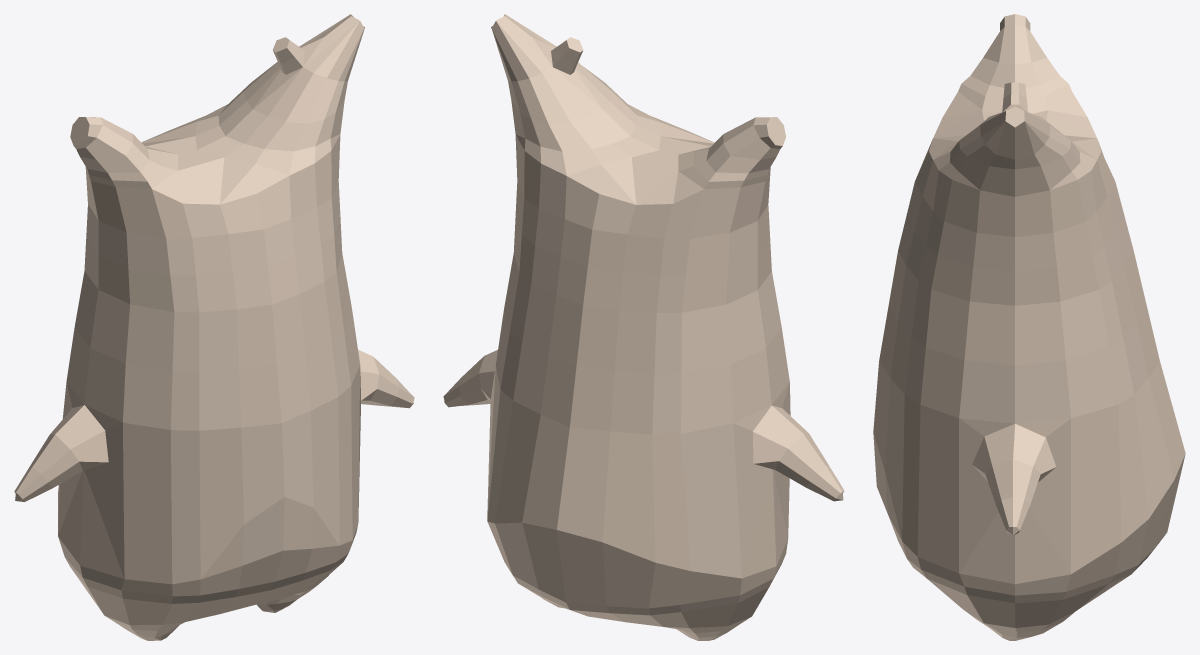
File: frame_0013.obj
3 views of the same model, side by side, from view 1: azimuth 30°, elevation 25°; view 2: azimuth 150°, elevation 25°; view 3: azimuth 270°, elevation 25° (orthographic).
Parts seen in each view (by area): view 1: korok; view 2: korok; view 3: korok.
Boxes of the visible parts, x1,y1,x2,y2 form: korok: [14, 14, 414, 640]; korok: [443, 14, 844, 640]; korok: [873, 14, 1185, 640].
Size of the model in its own units: 1.56 by 2.16 by 1.07.
